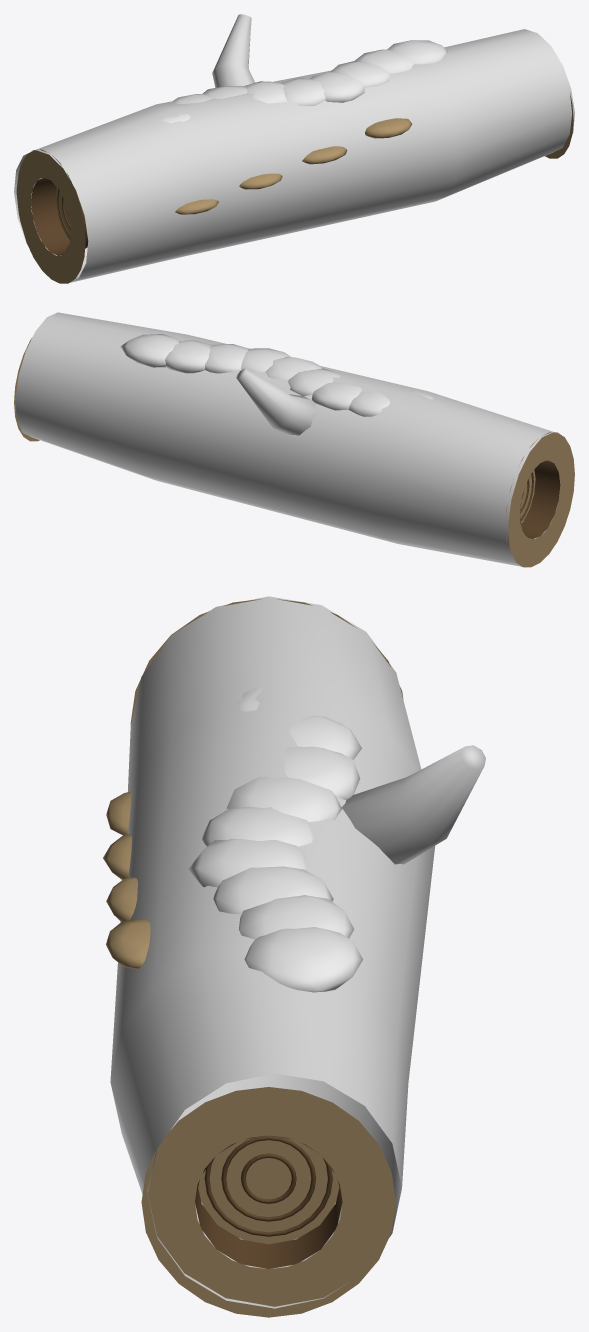
Rendered from SM_DF_Log_1.fbx.
The picture shows the model from 3 angles, top to bottom: view 1: azimuth 30°, elevation 25°; view 2: azimuth 150°, elevation 25°; view 3: azimuth 270°, elevation 25°; orthographic projection. The views are drawn at different scales.
Visible parts, largest first — view 1: SM_DF_Log_1; view 2: SM_DF_Log_1; view 3: SM_DF_Log_1.
Boxes of the visible parts, box(x1,y1,x2,y2) form: SM_DF_Log_1: box(14, 14, 574, 283); SM_DF_Log_1: box(14, 312, 574, 567); SM_DF_Log_1: box(103, 596, 485, 1317).
Size of the model in its own units: 370 by 123 by 124.
